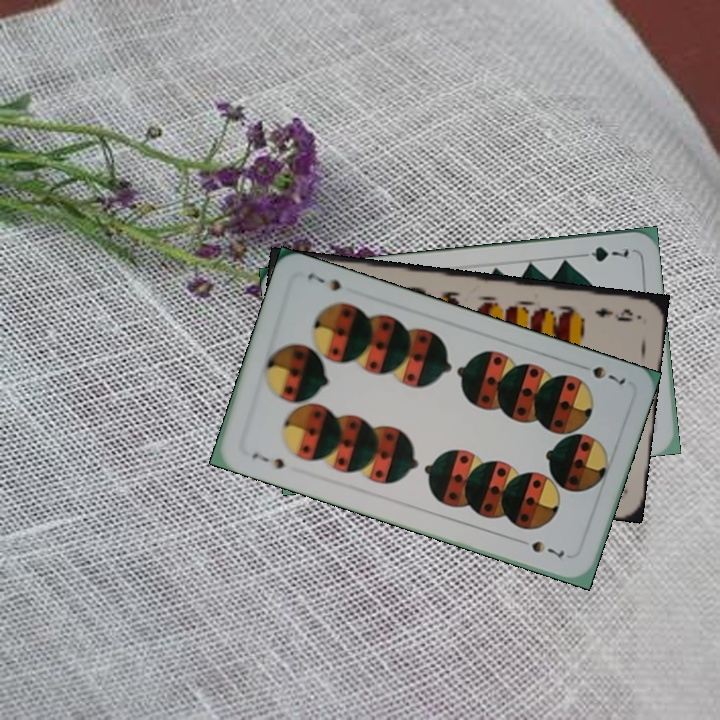E9: (591, 304, 636, 324)
G7: (574, 242, 631, 265)
S7: (588, 362, 628, 388), (247, 448, 287, 472)
